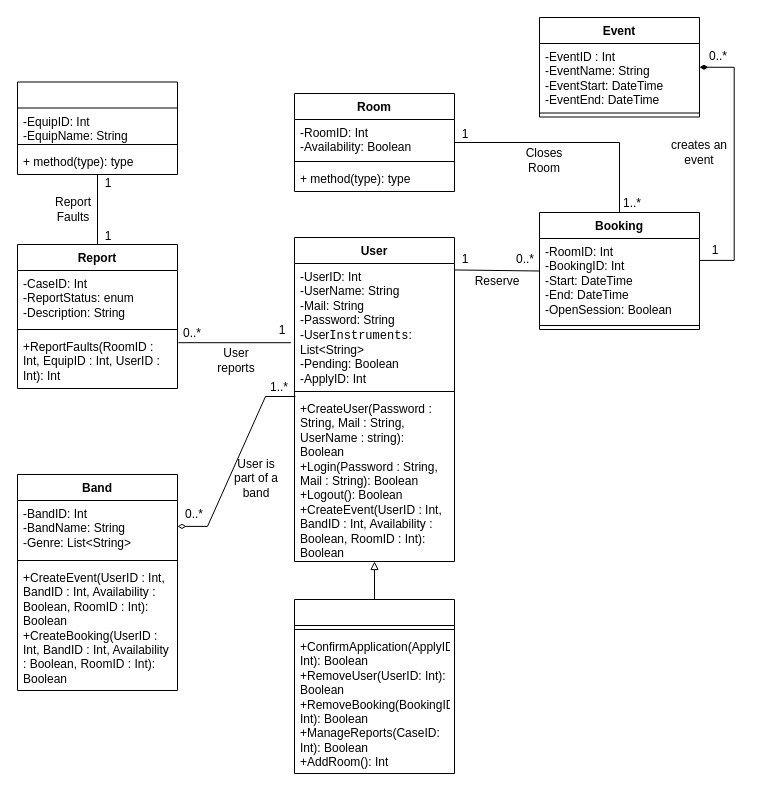
Image size: 766x794. Some labels were removed from this diagram. The box of each missing label's shape, as (x1, y1, x2, y2) in pixels:
Administrator: (294, 598, 454, 774)
Equipment: (16, 81, 178, 174)
